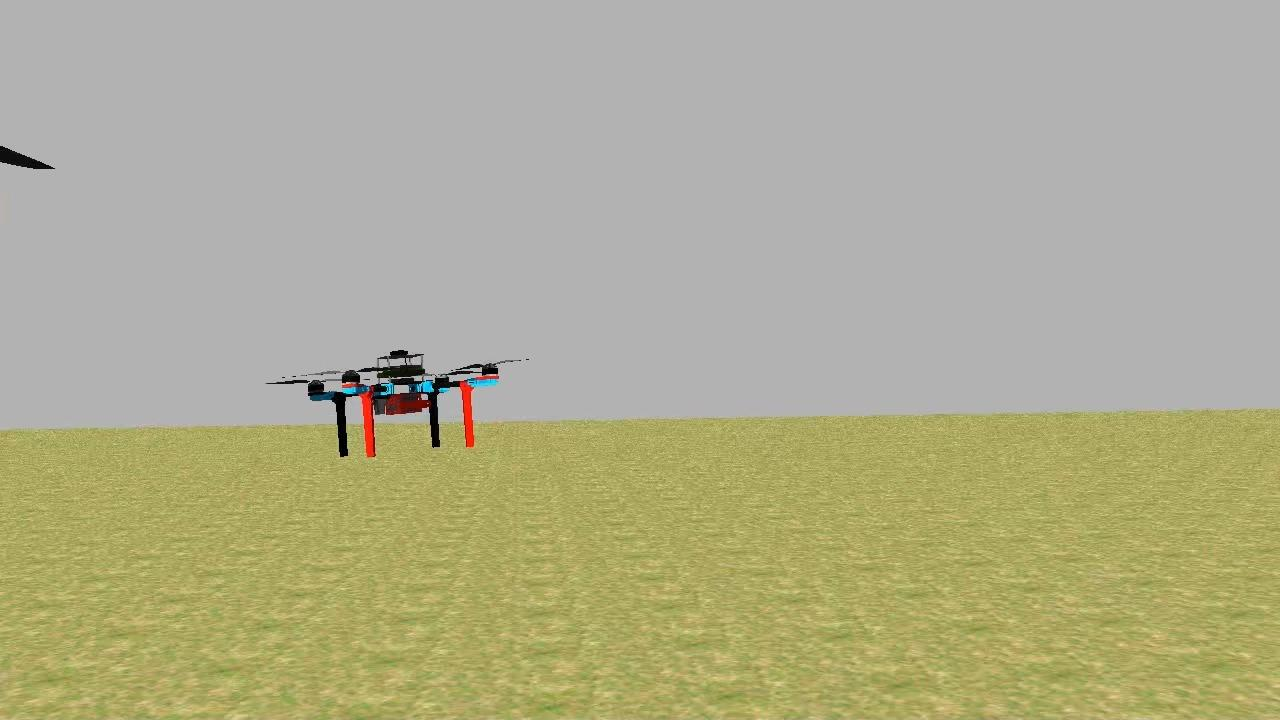UAV: (302, 344, 508, 462)
